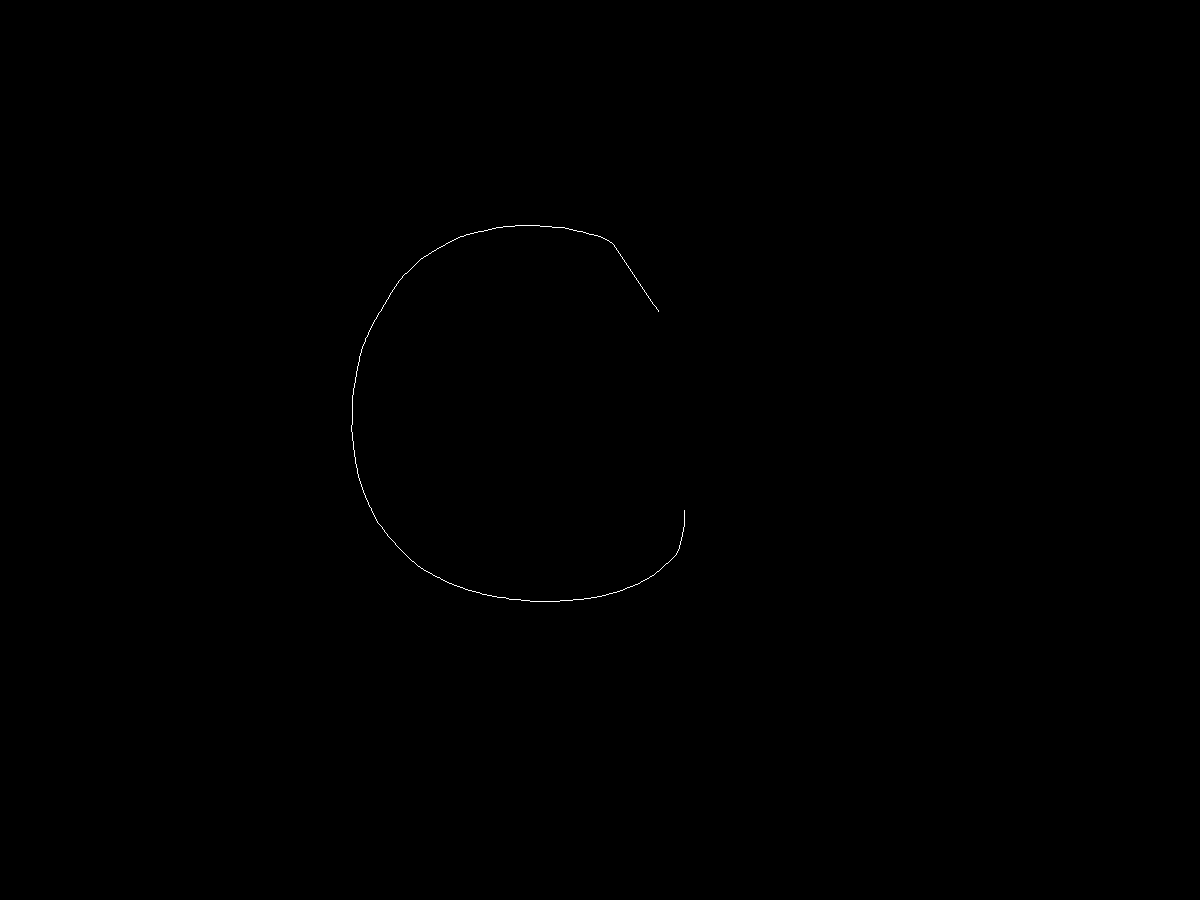dian1: (647, 300, 665, 322)
dian2: (671, 508, 698, 530)
